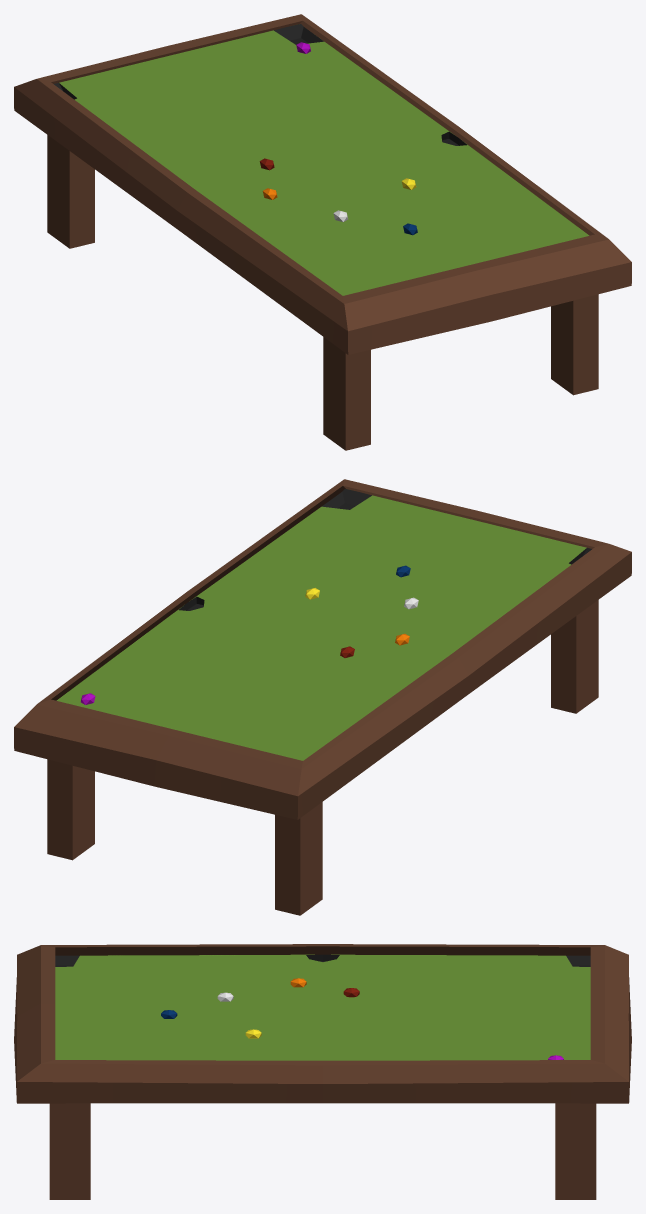
Rendered from billiardTable.glb.
3 views of the same model, one above another, from view 1: azimuth 30°, elevation 25°; view 2: azimuth 150°, elevation 25°; view 3: azimuth 270°, elevation 25° (orthographic). The views are drawn at different scales.
Visible parts, largest first — view 1: BilliardTable; view 2: BilliardTable; view 3: BilliardTable.
Part boxes in pixels (x1,y1,x2,y2): BilliardTable: (14,14,631,450); BilliardTable: (14,479,631,915); BilliardTable: (14,944,631,1199).
Size of the model in its own units: 2 by 1 by 4.
Materials: 1 (1 with a texture image).
